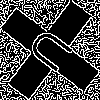U: (25, 25, 83, 82)
